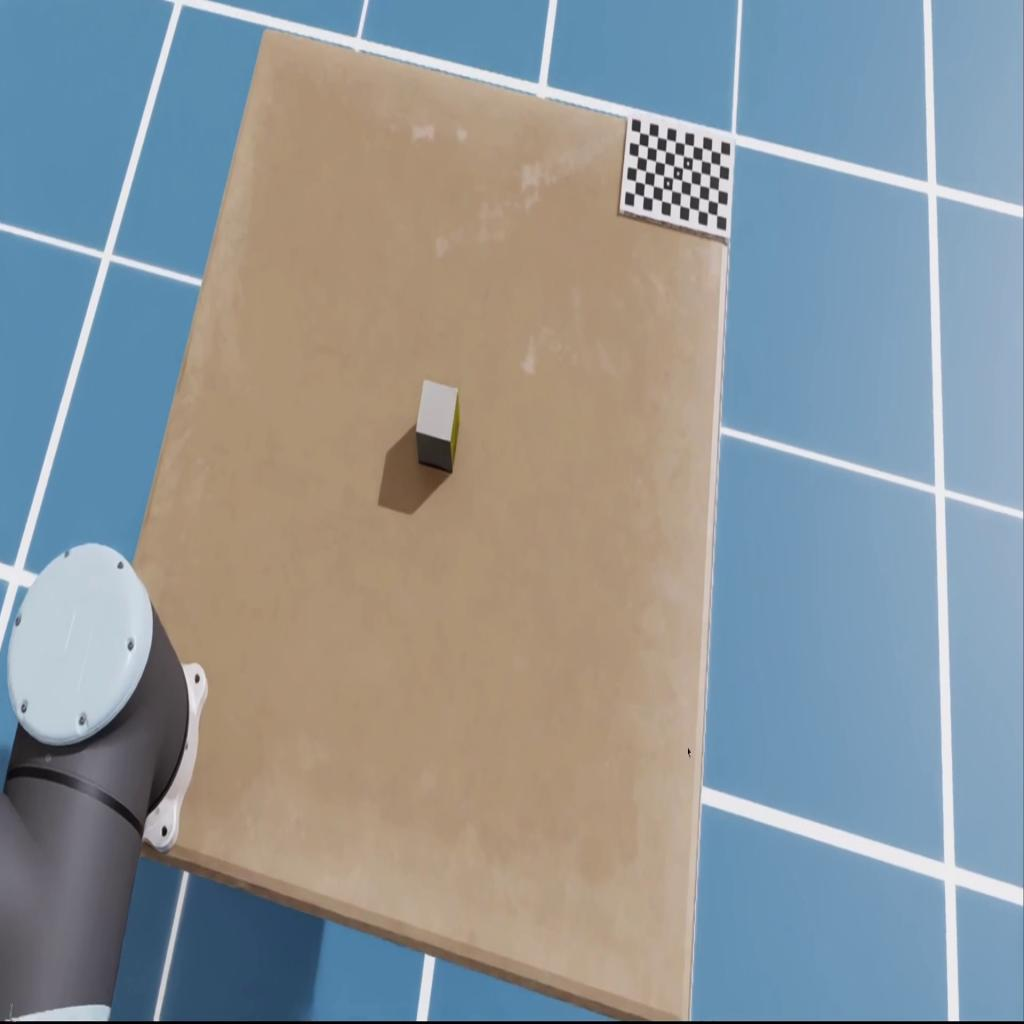Cube: (415, 378, 460, 473)
QR: (618, 117, 734, 247)
Robot: (0, 540, 208, 1021)
Table: (126, 27, 733, 1020)
